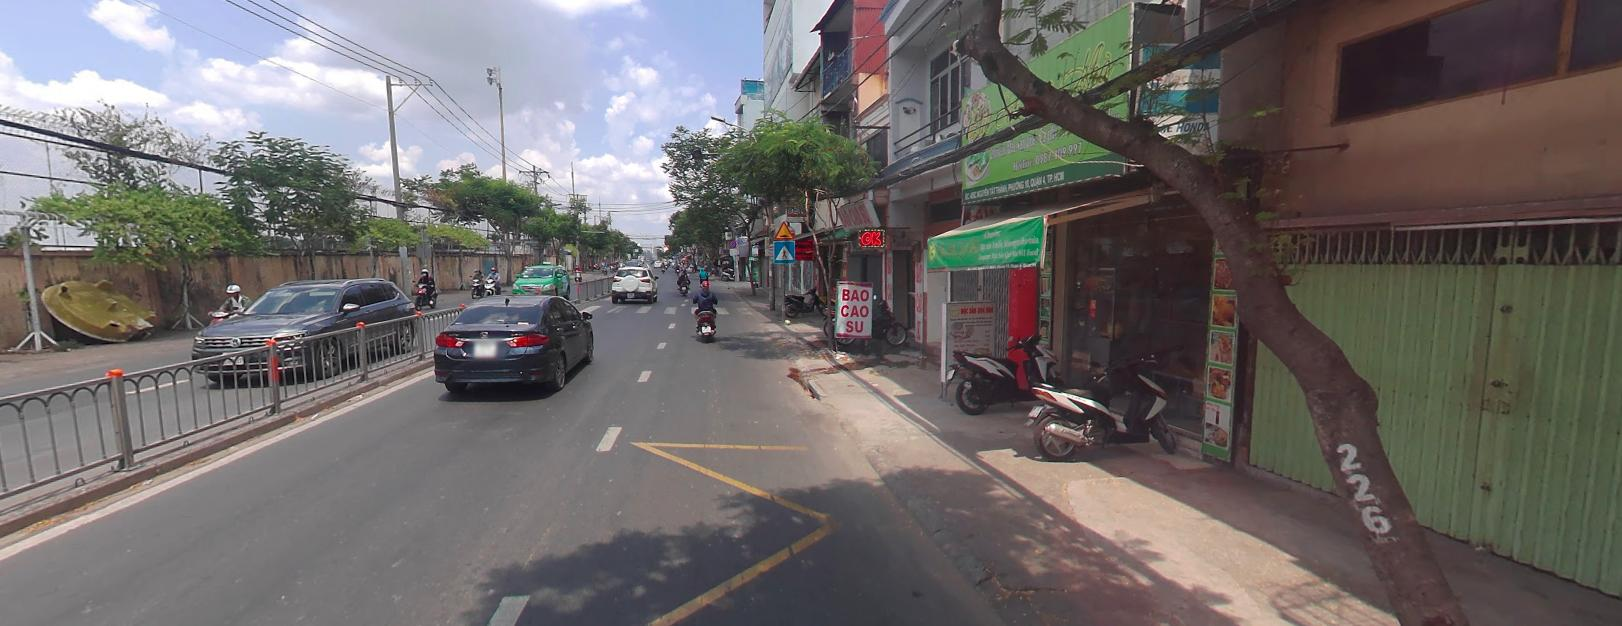Cam dung va do: (728, 238, 735, 246)
Nguy hiem: (774, 219, 795, 238)
